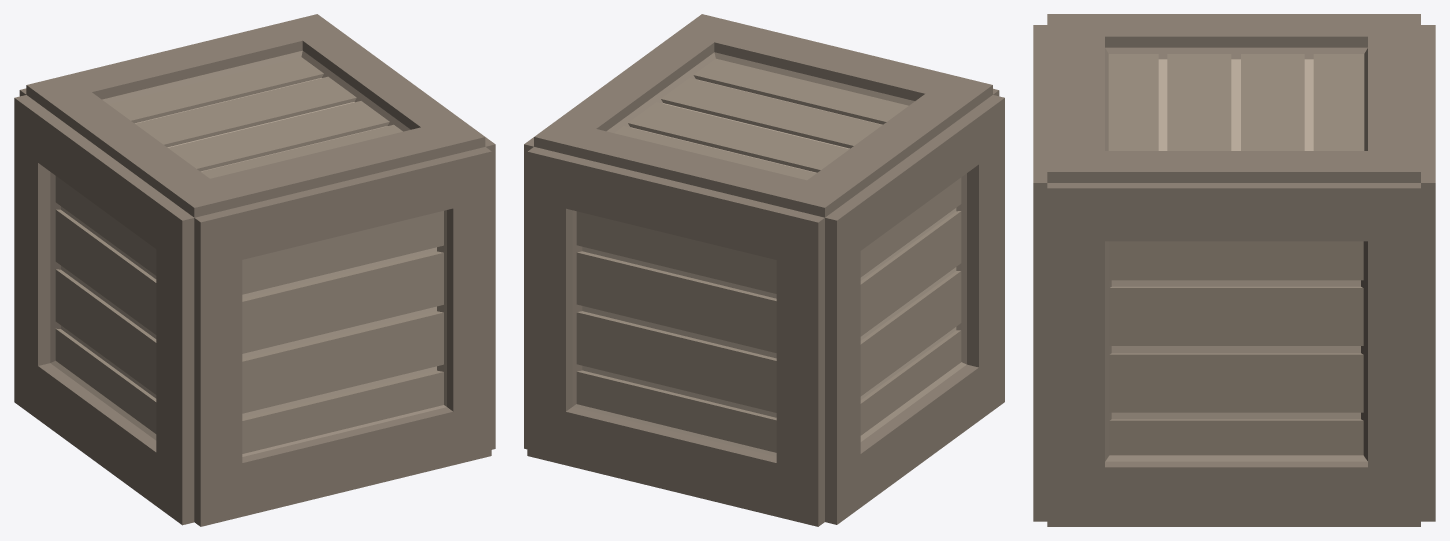
Rendered from ER_Asset_WoodenCrate.fbx.
The picture shows the model from 3 angles, left to right: view 1: azimuth 30°, elevation 25°; view 2: azimuth 150°, elevation 25°; view 3: azimuth 270°, elevation 25°; orthographic projection. The views are drawn at different scales.
Parts seen in each view (by area): view 1: pCube230; view 2: pCube230; view 3: pCube230.
Part boxes in pixels (x1,y1,x2,y2): pCube230: [14, 14, 495, 526]; pCube230: [524, 14, 1004, 526]; pCube230: [1033, 14, 1435, 526].
Bounding box in the file's own units: 0.7966 × 0.764 × 0.7973.
